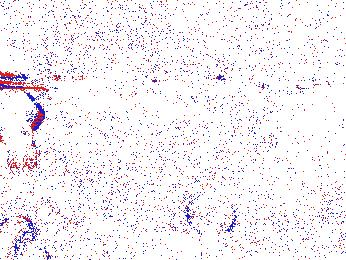flame jellyfish: (1, 85, 45, 176), (184, 192, 238, 248), (1, 215, 50, 260)
